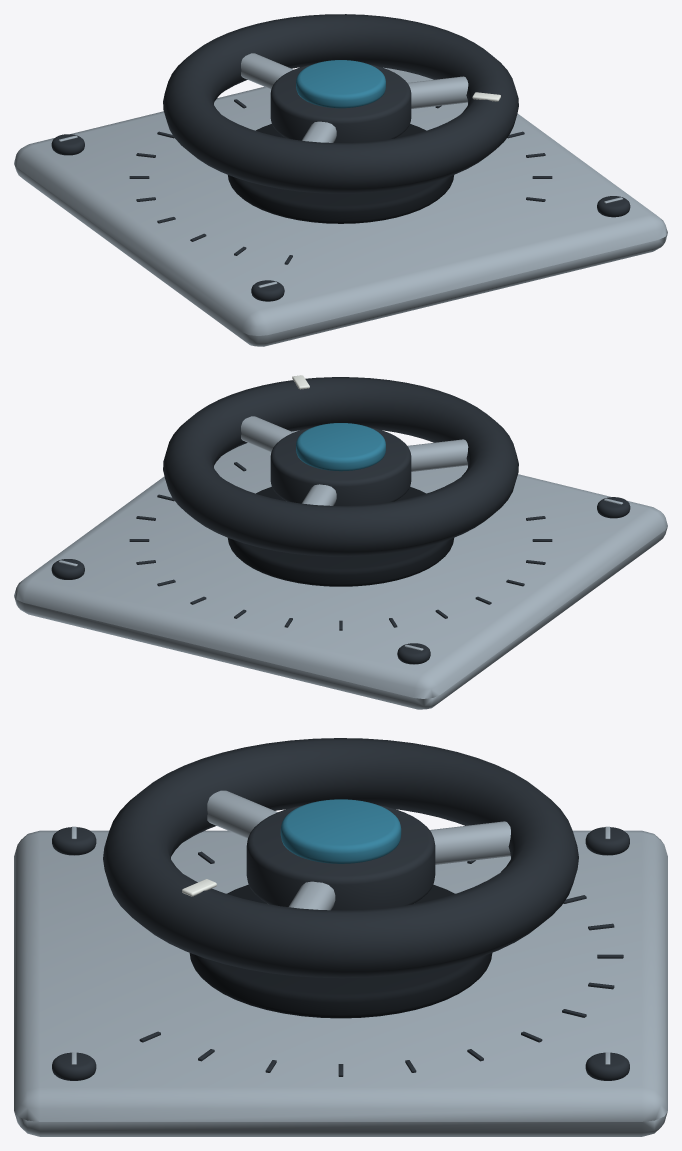
Rendered from handwheel.glb.
3 renders of one model, top to bottom at view 1: azimuth 30°, elevation 25°; view 2: azimuth 150°, elevation 25°; view 3: azimuth 270°, elevation 25°, orthographic. The views are drawn at different scales.
Visible parts, largest first — view 1: handwheel_mount, grip rim, gasket, wheel hub, centre cap, wheel spoke.001, wheel spoke.002, wheel spoke, mount screw.001, mount screw, mount screw.002; view 2: handwheel_mount, grip rim, gasket, wheel hub, centre cap, wheel spoke, wheel spoke.001, wheel spoke.002, mount screw, mount screw.001, mount screw.003; view 3: handwheel_mount, grip rim, gasket, wheel hub, centre cap, wheel spoke.002, wheel spoke, wheel spoke.001, mount screw, mount screw.001, mount screw.002, mount screw.003.
Part boxes in pixels (x1=…): handwheel_mount: x1=14, y1=67, x2=667, y2=346; grip rim: x1=163, y1=14, x2=518, y2=193; gasket: x1=228, y1=124, x2=453, y2=223; wheel hub: x1=270, y1=64, x2=411, y2=142; centre cap: x1=296, y1=60, x2=385, y2=108; wheel spoke.001: x1=407, y1=76, x2=468, y2=108; wheel spoke.002: x1=241, y1=53, x2=293, y2=89; wheel spoke: x1=302, y1=121, x2=336, y2=142; mount screw.001: x1=51, y1=134, x2=84, y2=155; mount screw: x1=251, y1=280, x2=284, y2=301; mount screw.002: x1=597, y1=196, x2=630, y2=217; handwheel_mount: x1=14, y1=430, x2=667, y2=709; grip rim: x1=163, y1=377, x2=518, y2=556; gasket: x1=228, y1=486, x2=453, y2=586; wheel hub: x1=270, y1=427, x2=411, y2=505; centre cap: x1=296, y1=423, x2=385, y2=471; wheel spoke: x1=407, y1=439, x2=468, y2=471; wheel spoke.001: x1=241, y1=416, x2=293, y2=451; wheel spoke.002: x1=302, y1=484, x2=336, y2=505; mount screw: x1=597, y1=497, x2=630, y2=518; mount screw.001: x1=397, y1=643, x2=430, y2=664; mount screw.003: x1=51, y1=559, x2=84, y2=579; handwheel_mount: x1=14, y1=830, x2=667, y2=1136; grip rim: x1=103, y1=738, x2=578, y2=978; gasket: x1=189, y1=884, x2=492, y2=1018; wheel hub: x1=246, y1=804, x2=435, y2=910; centre cap: x1=280, y1=799, x2=401, y2=863; wheel spoke.002: x1=430, y1=821, x2=510, y2=864; wheel spoke: x1=207, y1=790, x2=277, y2=838; wheel spoke.001: x1=288, y1=881, x2=335, y2=910; mount screw: x1=52, y1=827, x2=96, y2=855; mount screw.001: x1=585, y1=827, x2=629, y2=855; mount screw.002: x1=52, y1=1052, x2=96, y2=1080; mount screw.003: x1=585, y1=1052, x2=629, y2=1080.
Bounding box in the file's own units: 2.5 × 0.78 × 2.5.
